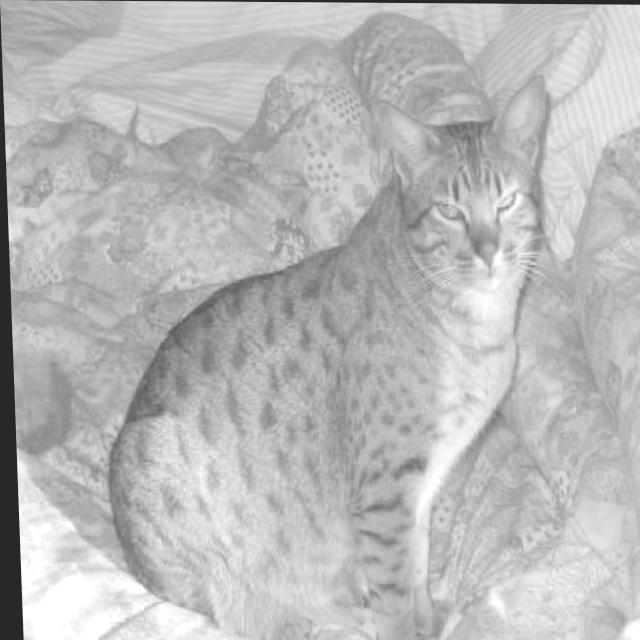Cat: (92, 73, 569, 640)
